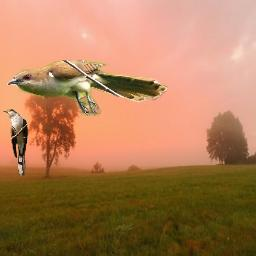Cuckoo: (7, 60, 168, 116), (3, 109, 28, 176)
